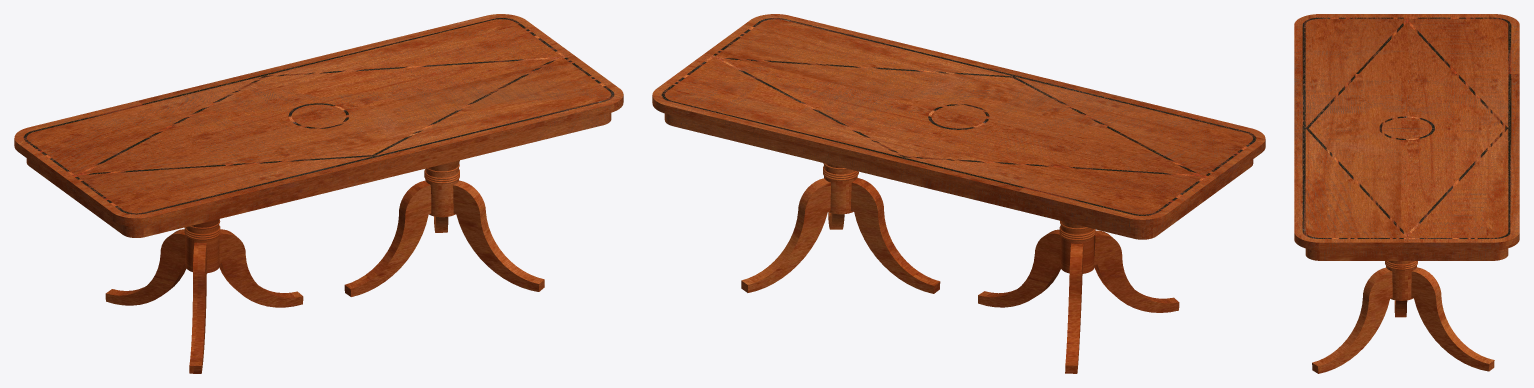
3 views of the same model, side by side, from view 1: azimuth 30°, elevation 25°; view 2: azimuth 150°, elevation 25°; view 3: azimuth 270°, elevation 25° (orthographic). The views are drawn at different scales.
Parts seen in each view (by area): view 1: Dining_Table (×17); view 2: Dining_Table (×17); view 3: Dining_Table (×15).
Boxes of the visible parts, <box> form: Dining_Table (×17): <box>14,14,623,373</box>; Dining_Table (×17): <box>652,14,1265,373</box>; Dining_Table (×15): <box>1294,14,1519,373</box>.
Size of the model in its own units: 96 by 40 by 32.98.
Materials: 3 (3 with a texture image).
